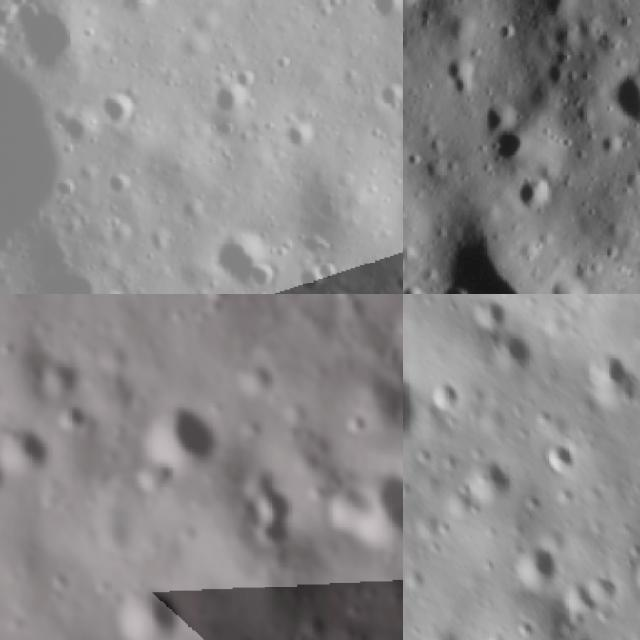crater: (403, 221, 590, 294), (134, 391, 223, 483), (12, 0, 99, 85), (323, 463, 403, 552), (200, 219, 288, 294), (97, 576, 190, 640), (226, 461, 294, 546), (595, 41, 640, 143), (429, 43, 495, 111), (478, 114, 539, 180), (0, 411, 57, 477), (446, 458, 513, 502), (511, 167, 562, 224), (93, 85, 151, 133), (588, 353, 633, 410), (208, 74, 259, 122), (508, 542, 560, 588), (227, 346, 273, 394), (544, 15, 591, 61), (48, 108, 96, 148), (538, 261, 596, 294), (280, 115, 323, 157), (112, 0, 163, 35), (533, 0, 587, 30), (55, 398, 95, 438), (423, 271, 491, 294), (540, 430, 576, 473), (290, 222, 334, 257), (488, 11, 528, 49), (532, 55, 572, 93), (99, 166, 142, 201), (470, 299, 509, 332), (49, 174, 86, 208), (375, 77, 403, 118), (403, 141, 433, 175), (403, 0, 438, 27), (311, 258, 342, 286), (73, 624, 125, 640), (408, 0, 463, 15), (436, 381, 460, 415), (403, 274, 437, 294), (87, 281, 136, 294), (403, 247, 416, 291), (511, 618, 536, 640), (196, 294, 228, 304), (392, 266, 403, 294)
